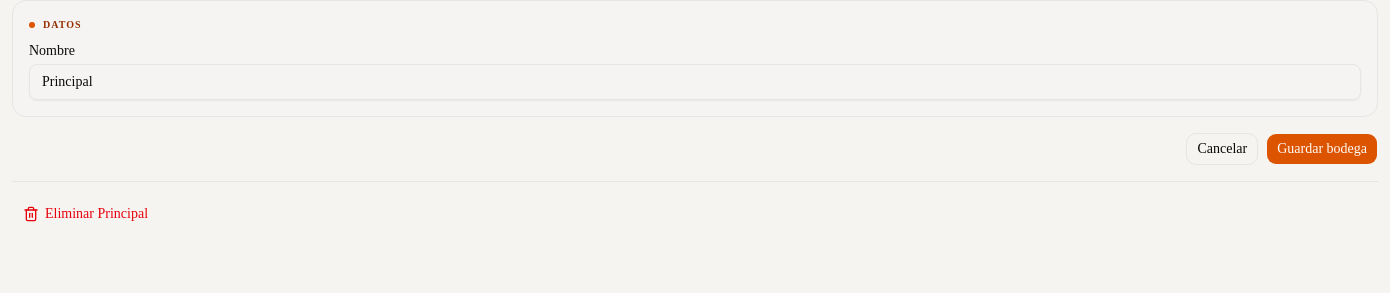
Test: EditarBodegaForm — eliminar › shows the refusal reason
Click the button "Eliminar Principal" at (86, 214), box [12,198,159,230]
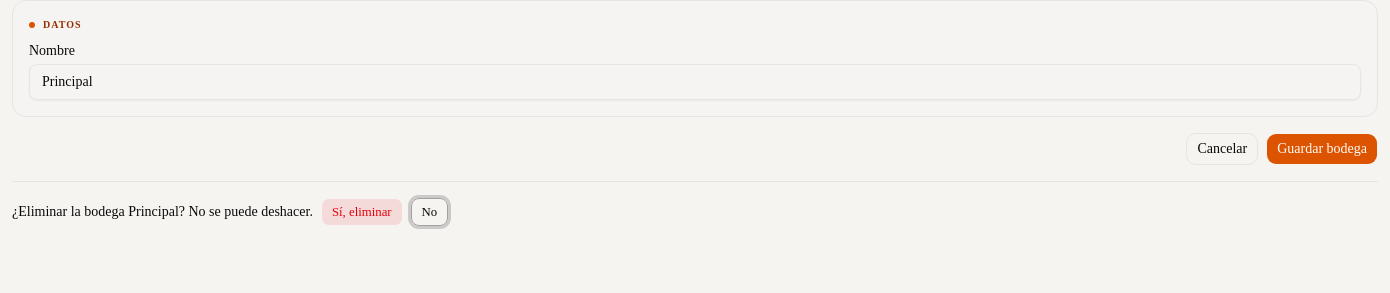
Click the button "Sí, eliminar" at (362, 212), box [321,198,403,226]
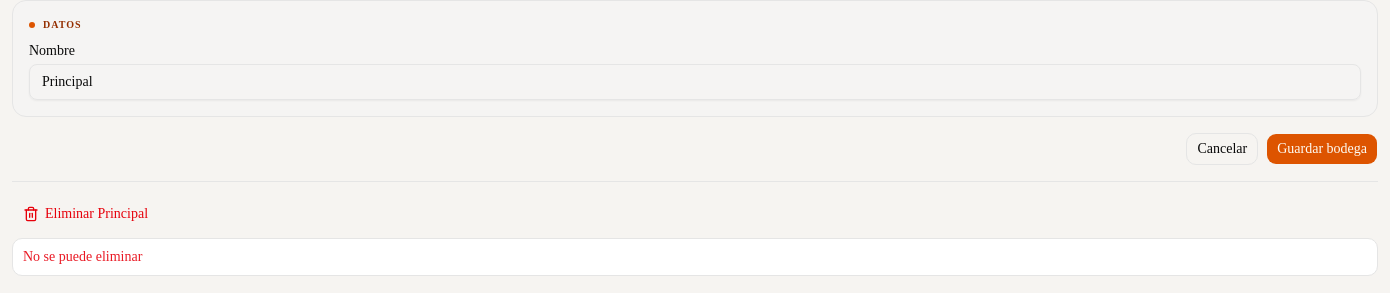
Now the message reads "No se puede eliminar", box [23,249,142,264]
